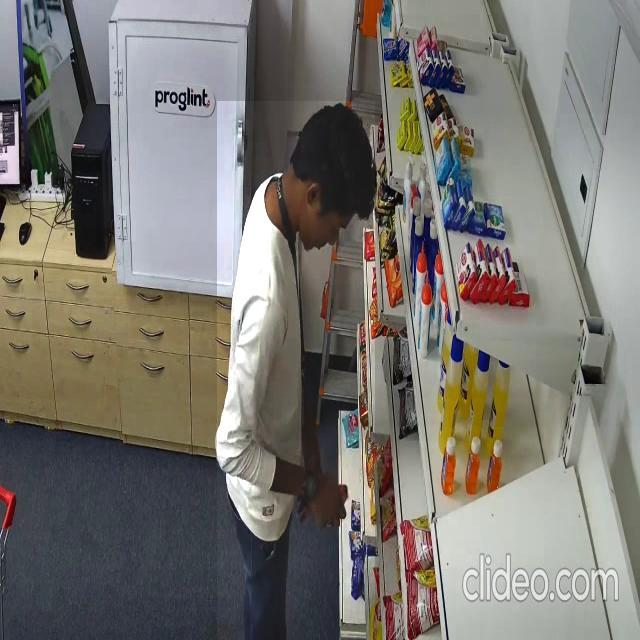normal: (217, 101, 375, 640)
